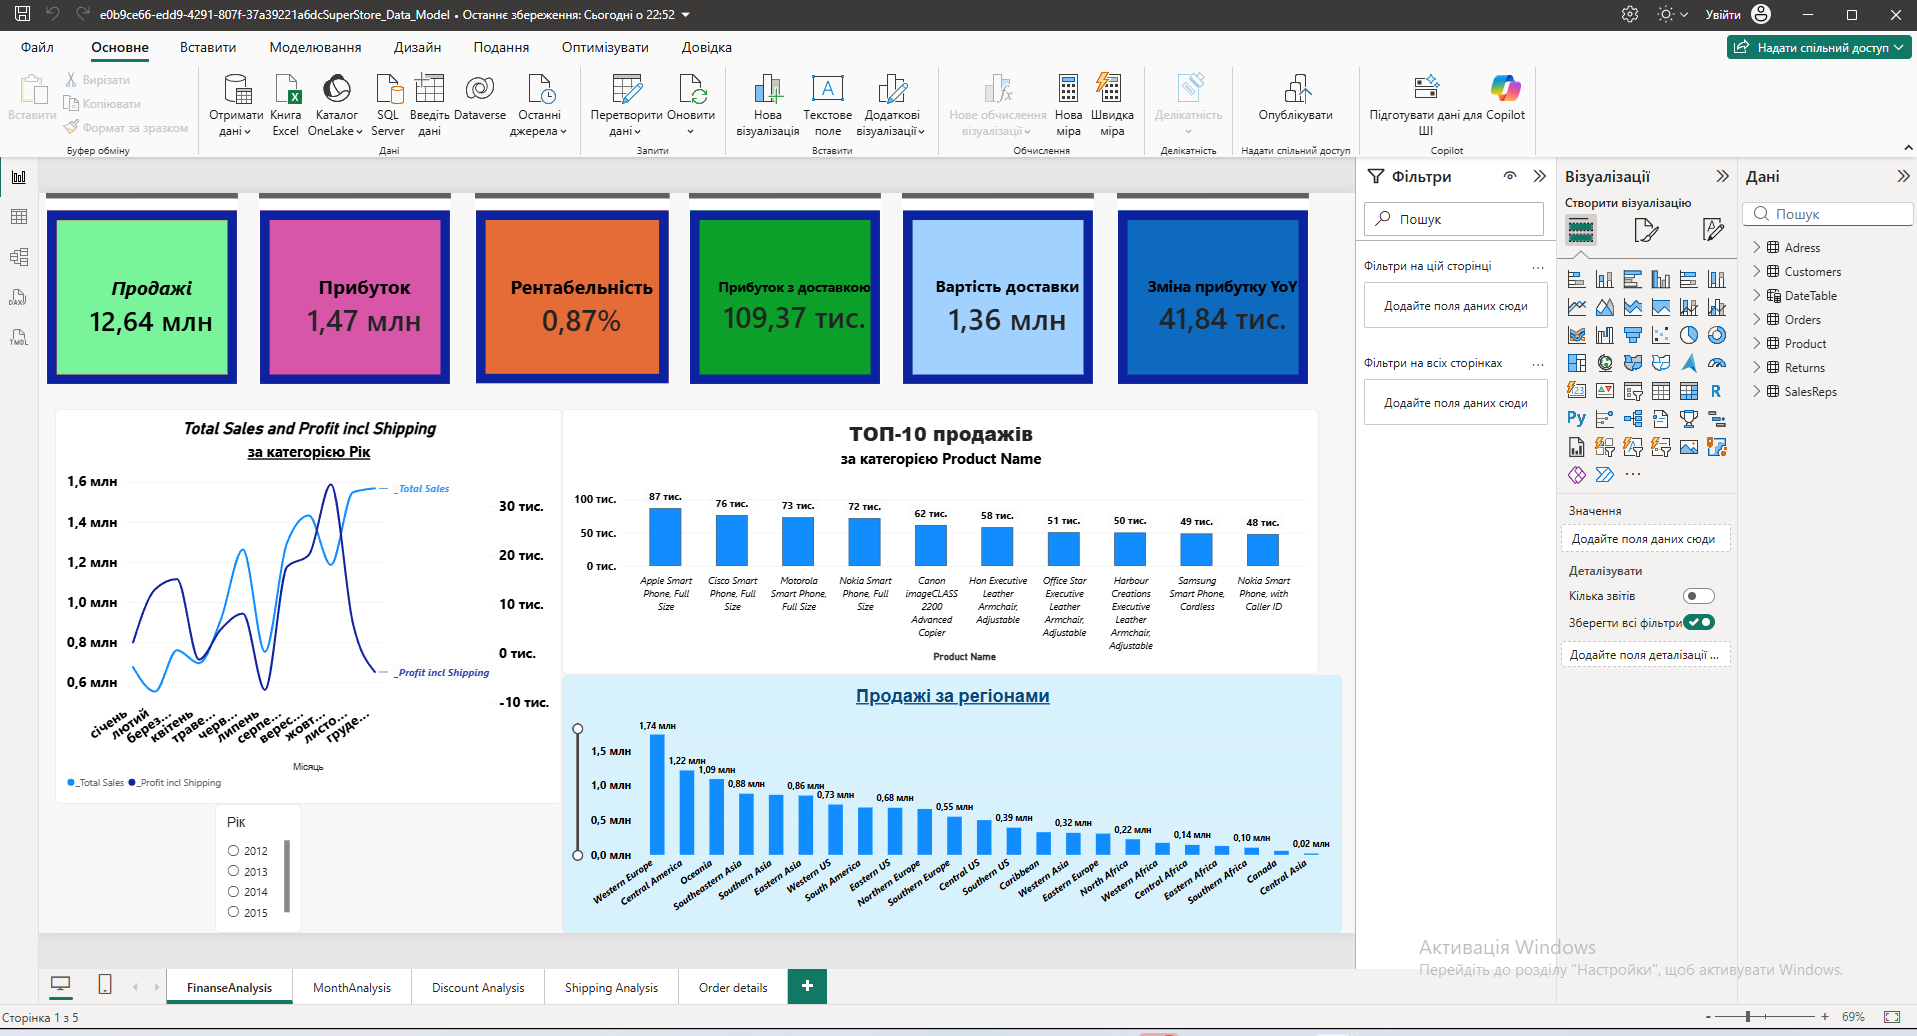

Layout of this report page (visuals, bound fields, positions):
{"tool":"powerbi","page":{"name":"FinanseAnalysis","canvas":[1920,1080],"ordinal":0},"visuals":[{"type":"cardVisual","fields":{"Data":["Orders._Total Sales"]},"box":[10,0,280,280],"z":0},{"type":"cardVisual","fields":{"Data":["Orders._Profit incl Shipping"]},"box":[948.9,0,280,280],"z":1},{"type":"cardVisual","fields":{"Data":["Orders._TotalShippingCost"]},"box":[1258.4,0,280,280],"z":2},{"type":"cardVisual","fields":{"Data":["Orders._Profit%"]},"box":[636.3,0,284.2,279.5],"z":3},{"type":"cardVisual","fields":{"Data":["Orders._Profit YoY"]},"box":[1572.6,0,280,280],"z":4},{"type":"cardVisual","fields":{"Data":["Orders._Total Profit"]},"box":[320.5,0,280,280],"z":5},{"type":"lineChart","title":"Total Sales and Profit incl Shipping","fields":{"Category":["DateTable.Date.Варіація.Ієрархія дат.Місяць"],"Y":["Orders._Total Sales"],"Y2":["Orders._Profit incl Shipping"]},"box":[23.7,315.8,738.9,576.3],"z":6},{"type":"clusteredColumnChart","title":"ТОП-10 продажів","fields":{"Category":["Product.Product Name"],"Y":["Orders._Total Sales"]},"box":[762.6,315.8,1103.7,386.8],"z":7},{"type":"clusteredColumnChart","title":"Продажі за регіонами","fields":{"Category":["Adress.Region"],"Y":["Orders._Total Sales"]},"box":[762.6,702.6,1138.4,377.4],"z":8},{"type":"listSlicer","fields":{"Values":["DateTable.Date.Варіація.Ієрархія дат.Рік"]},"box":[257.4,892.1,126.3,187.9],"z":9}]}

Visuals, with their boxes on the page's 1920x1080 design canvas (x1, y1, x2, y2). These are canvas units, not pixel positions in the 1917x1036 screenshot, which may show the page scaled, cropped or inside an application window:
cardVisual - Orders._Total Sales: box=[10, 0, 290, 280]
cardVisual - Orders._Profit incl Shipping: box=[949, 0, 1229, 280]
cardVisual - Orders._TotalShippingCost: box=[1258, 0, 1538, 280]
cardVisual - Orders._Profit%: box=[636, 0, 920, 280]
cardVisual - Orders._Profit YoY: box=[1573, 0, 1853, 280]
cardVisual - Orders._Total Profit: box=[320, 0, 600, 280]
"Total Sales and Profit incl Shipping" lineChart: box=[24, 316, 763, 892]
"ТОП-10 продажів" clusteredColumnChart: box=[763, 316, 1866, 703]
"Продажі за регіонами" clusteredColumnChart: box=[763, 703, 1901, 1080]
listSlicer - DateTable.Date.Варіація.Ієрархія дат.Рік: box=[257, 892, 384, 1080]
